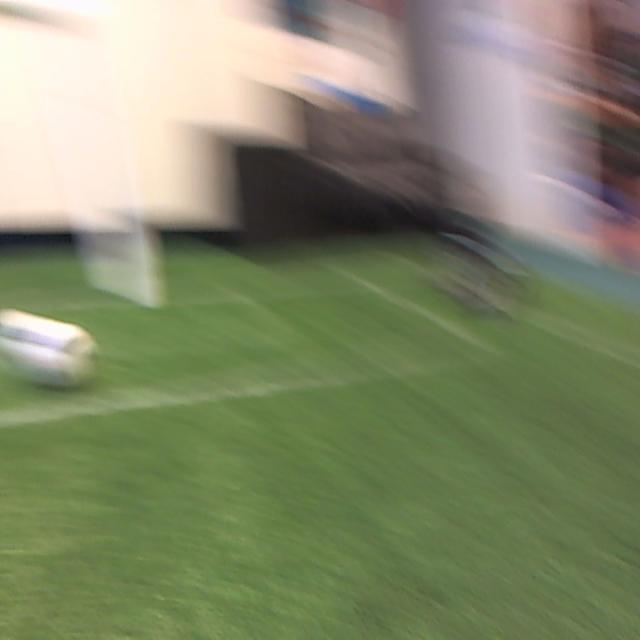ball: (0, 310, 103, 390)
